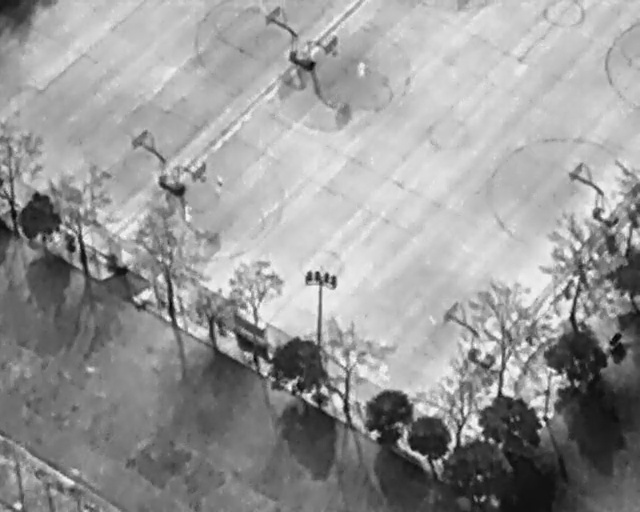Person: (182, 198, 191, 223), (356, 58, 366, 78), (215, 173, 222, 196)
